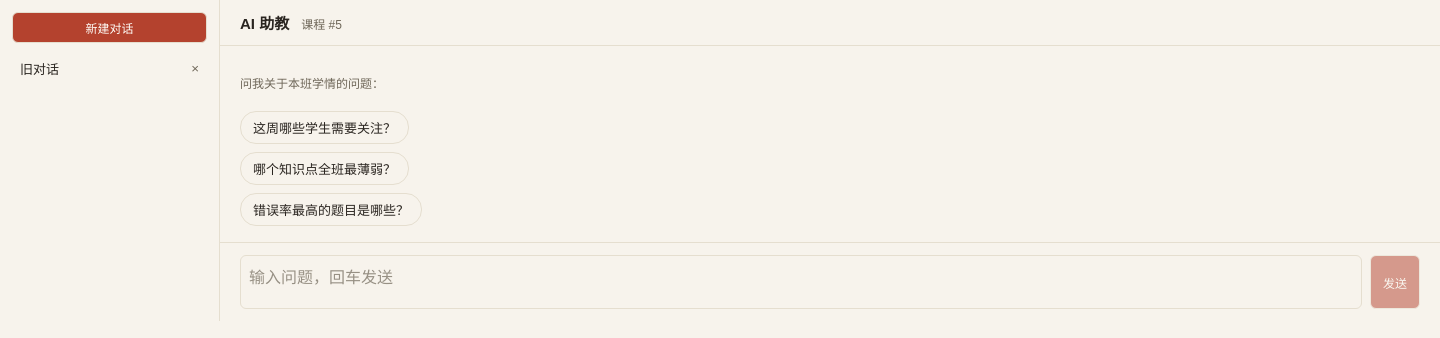
TeacherAssistant › shows stream error
What coordinates should you click on to do the following:
click the button with test id "starter" showing "这周哪些学生需要关注？"
I would click on:
 (324, 128)
Its box is [240,111,409,144].
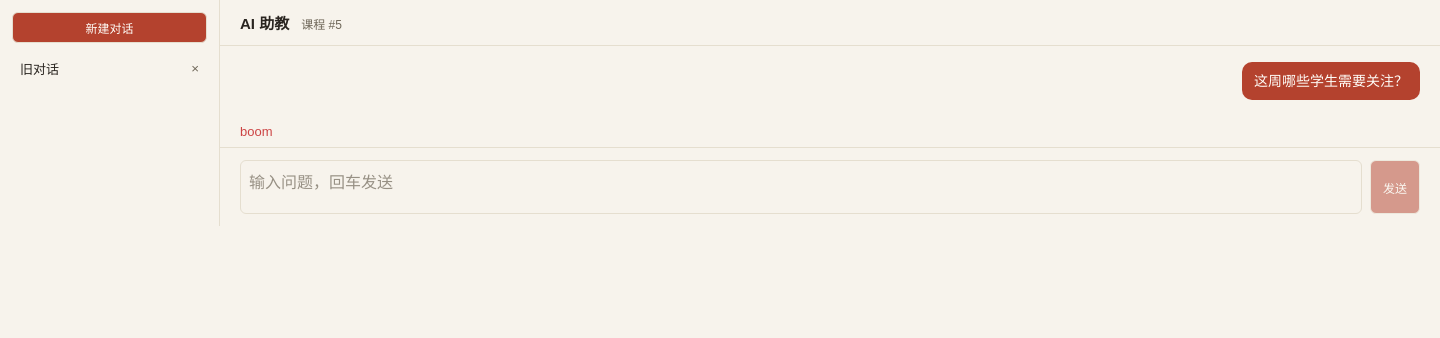
Now the message with test id "error" reads "boom", box [240,124,272,139]
